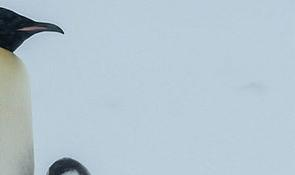Emperor Penguin: (0, 1, 63, 175)
